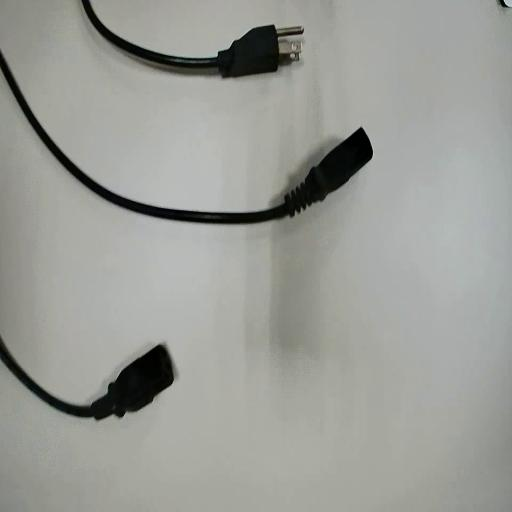wire: (82, 0, 301, 76)
